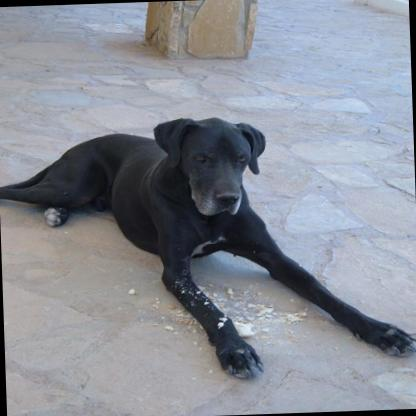Great_Dane: (0, 109, 416, 388)
